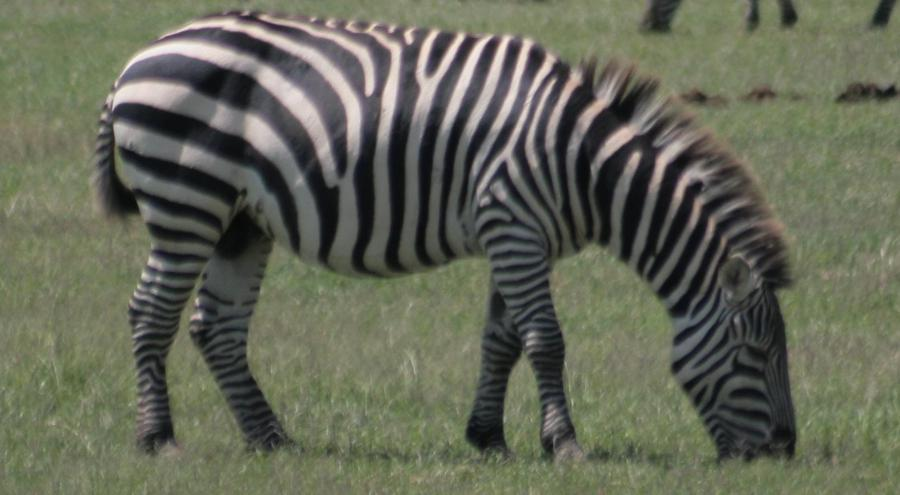zebra_plains: (93, 4, 610, 286)
